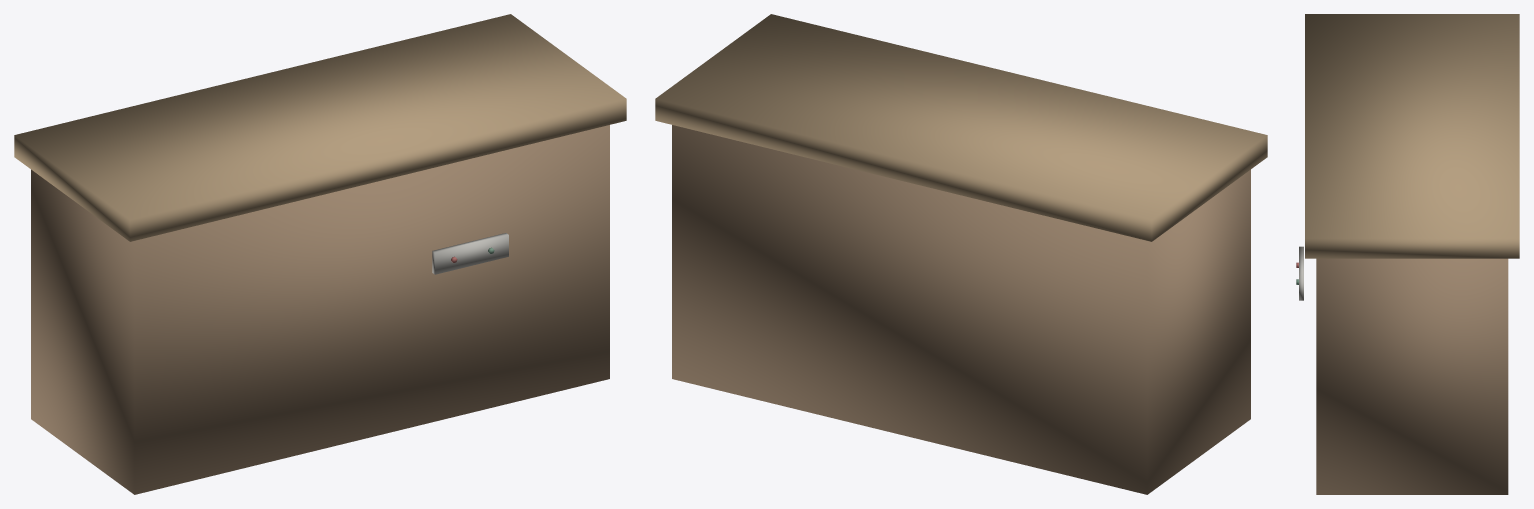
File: florist_wrapping_counter__reinforced.glb
3 renders of one model, left to right at view 1: azimuth 30°, elevation 25°; view 2: azimuth 150°, elevation 25°; view 3: azimuth 270°, elevation 25°, orthographic. The views are drawn at different scales.
Visible parts, largest first — view 1: world; view 2: world; view 3: world.
Boxes of the visible parts, <box> form: world: <box>14,14,626,494</box>; world: <box>655,14,1267,494</box>; world: <box>1296,14,1519,494</box>.
Size of the model in its own units: 1.94 by 1.05 by 0.8147.
